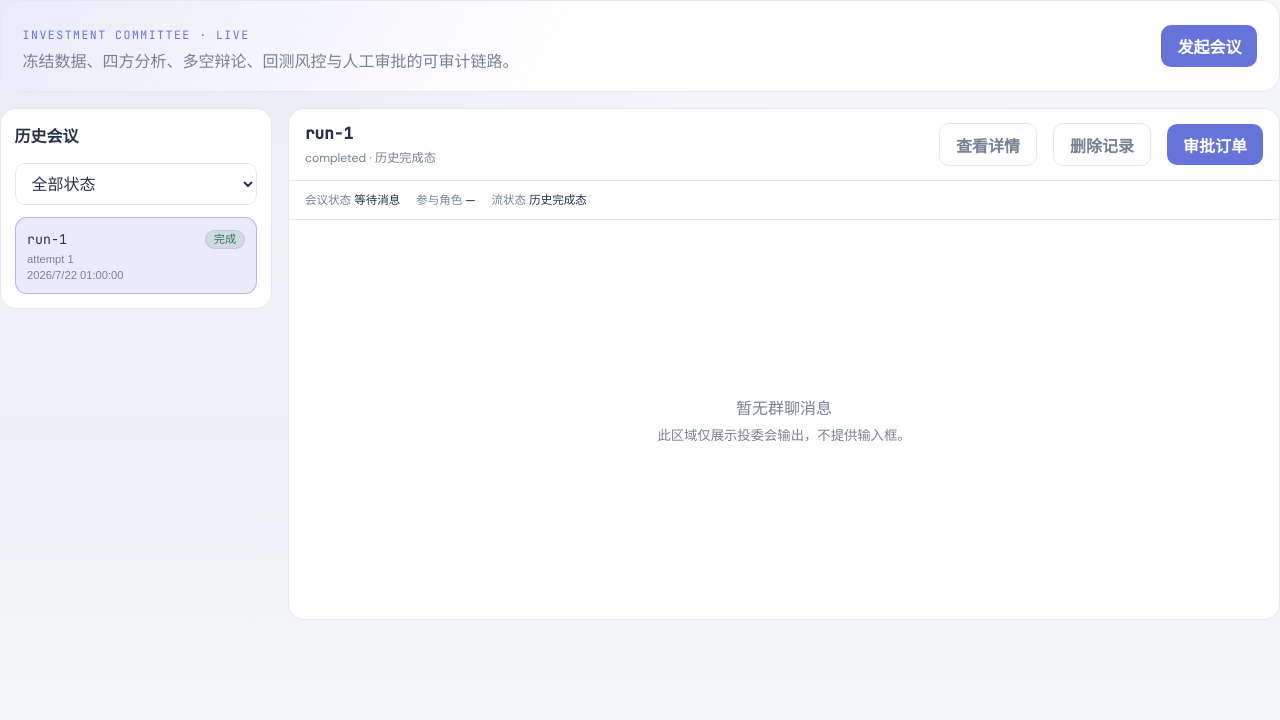
Test: CommitteePage › 从历史列表选择会议并加载 Mongo 详情事件
This screenshot has width=1280, height=720.
Click the button "run-1 完成 attempt 1 2026/7/22 01:00:00": (136, 256) [15,217,257,294]
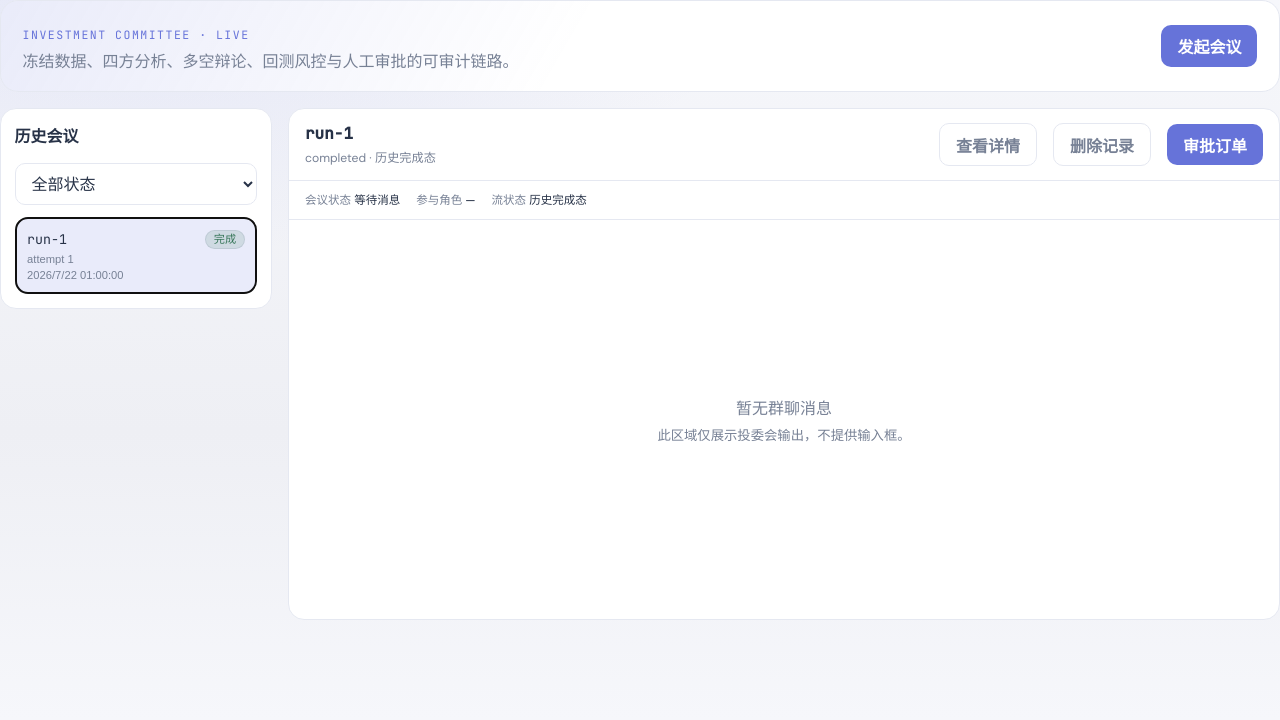
Click the button "查看详情": (988, 145) [939,123,1037,166]
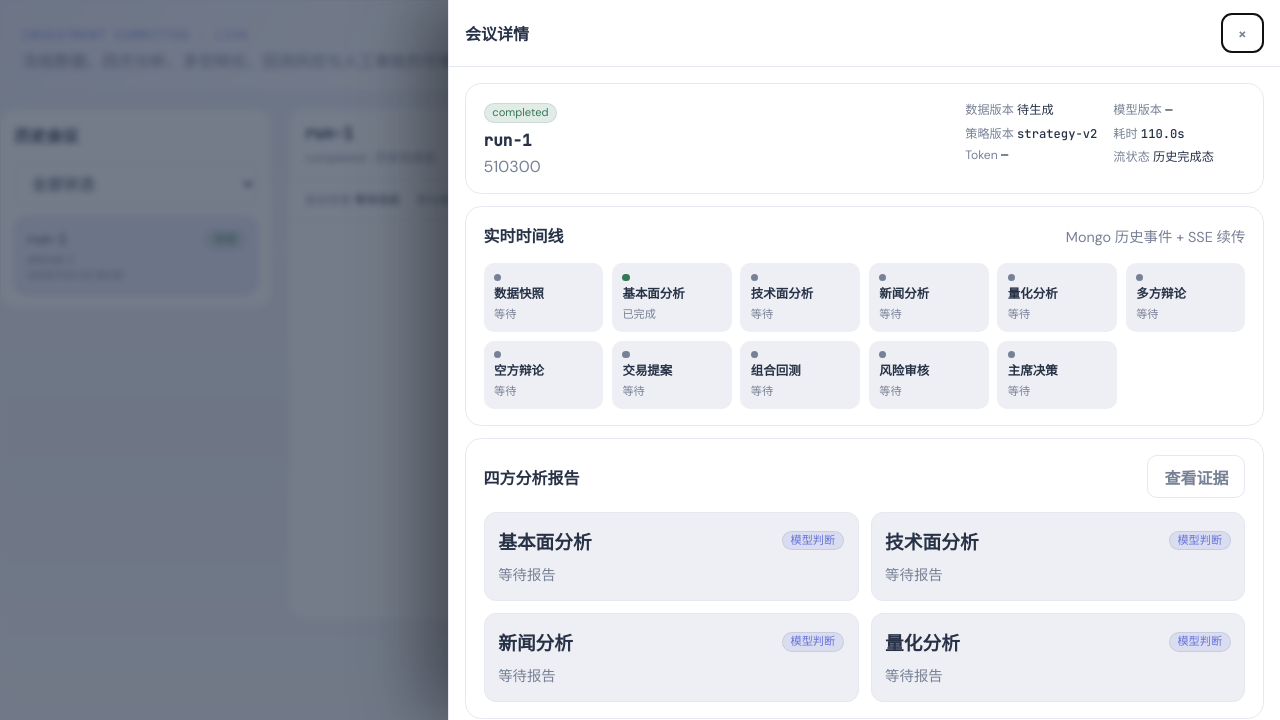
Result: the text "基本面分析" is shown at [622,286,685,302]
